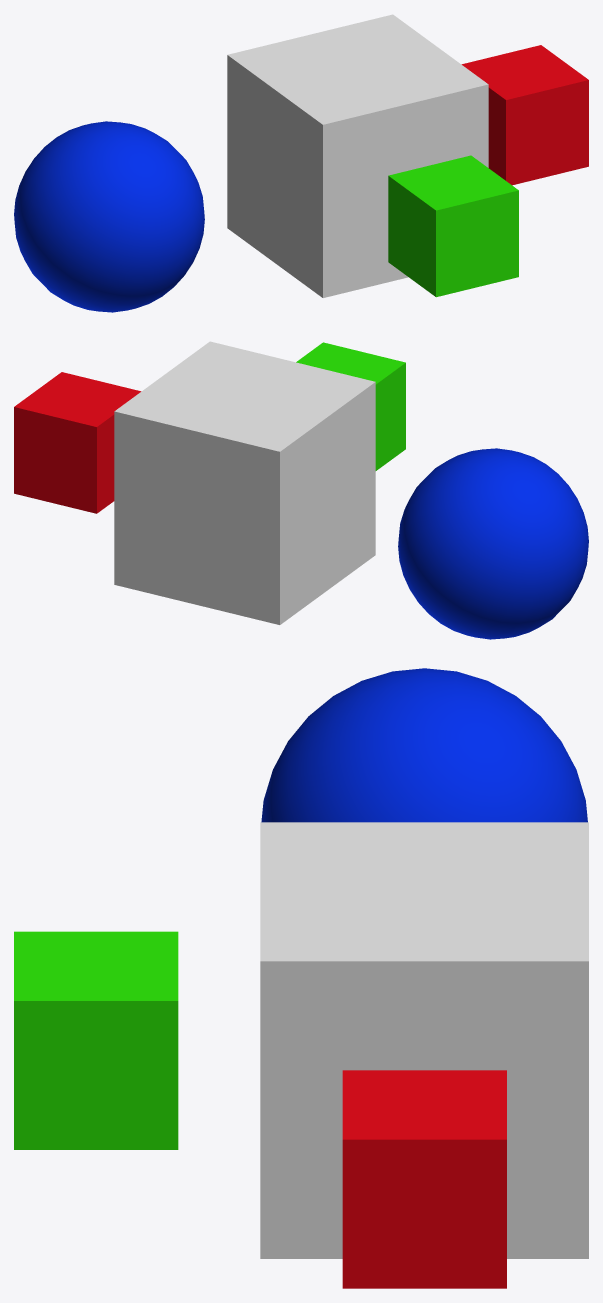
3 views of the same model, one above another, from view 1: azimuth 30°, elevation 25°; view 2: azimuth 150°, elevation 25°; view 3: azimuth 270°, elevation 25° (orthographic). The views are drawn at different scales.
Visible parts, largest first — view 1: Cube, Sphere, Child 2, Child 1; view 2: Cube, Sphere, Child 1, Child 2; view 3: Cube, Sphere, Child 1, Child 2.
Part boxes in pixels (x1,y1,x2,y2): Cube: (227,14,488,297); Sphere: (14,121,204,312); Child 2: (388,155,518,297); Child 1: (461,45,588,185); Cube: (114,341,375,624); Sphere: (398,448,588,639); Child 1: (14,372,141,513); Child 2: (296,342,405,470); Cube: (260,822,588,1258); Sphere: (261,668,587,822); Child 1: (342,1070,506,1288); Child 2: (14,931,178,1149).
Size of the model in its own units: 6.5 by 2 by 3.5.
